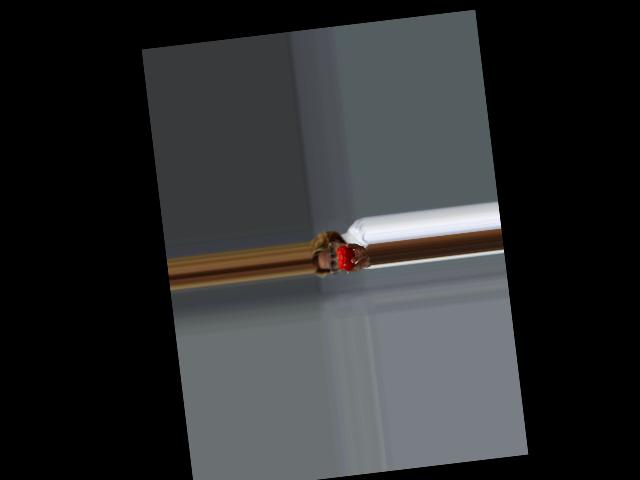tomato: (336, 243, 356, 270)
